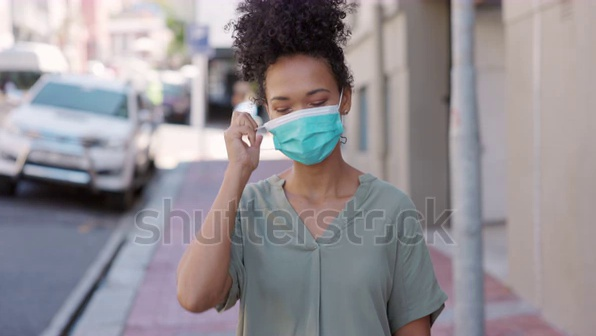Mask: (244, 107, 360, 169)
